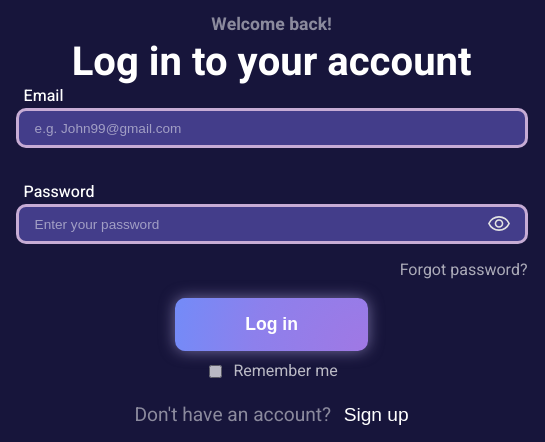
Test: LogInForm › validates empty fields on submit
The width and height of the screenshot is (545, 442).
Click the button "Log in". click: (272, 325)
box: [175,298,368,351]
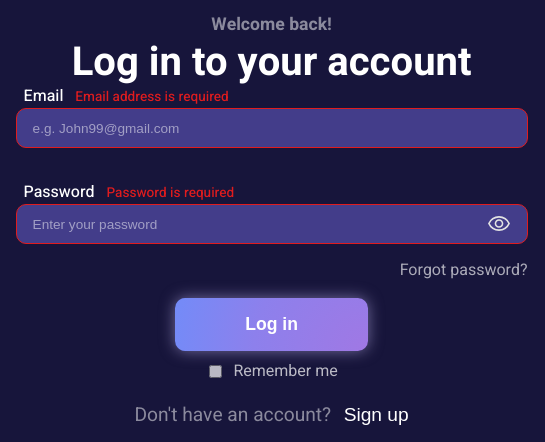
Check: the text "Password is required" is shown, box [106,183,234,203]
